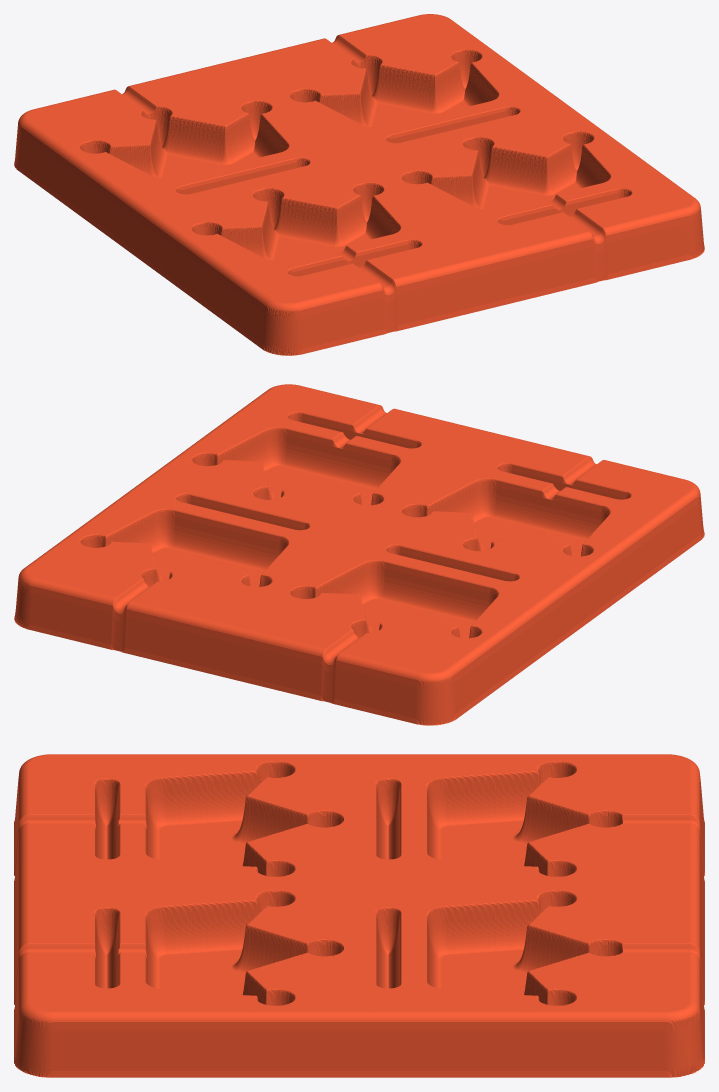
The model's file is mold.glb.
3 views of the same model, one above another, from view 1: azimuth 30°, elevation 25°; view 2: azimuth 150°, elevation 25°; view 3: azimuth 270°, elevation 25° (orthographic). The views are drawn at different scales.
Parts seen in each view (by area): view 1: geometry_0; view 2: geometry_0; view 3: geometry_0.
Part boxes in pixels (box(x1,y1,x2,y2)): geometry_0: box(14, 14, 704, 355); geometry_0: box(14, 384, 704, 725); geometry_0: box(14, 754, 704, 1077).
Size of the model in its own units: 0.1497 by 0.0155 by 0.1623.
